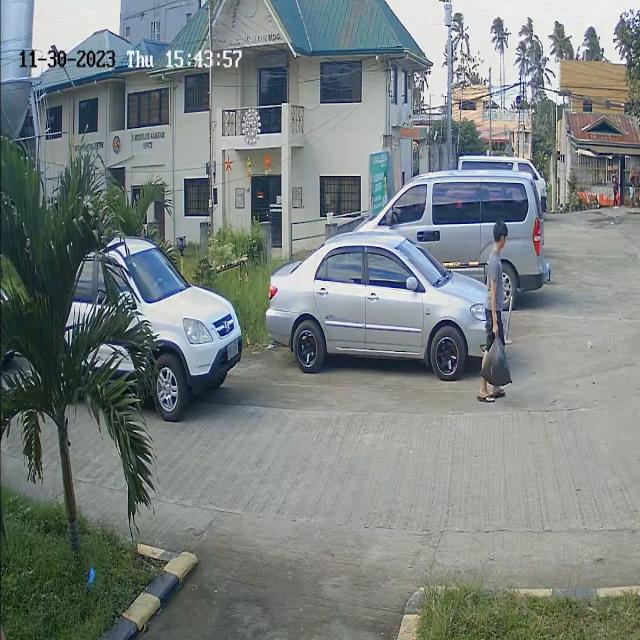garbage: (477, 335, 517, 394)
person: (484, 225, 511, 329)
